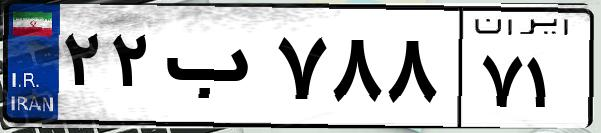1: (525, 38, 570, 115)
2: (57, 26, 110, 100), (110, 28, 158, 98)
7: (270, 28, 330, 110), (475, 38, 525, 113)
8: (385, 28, 445, 110), (330, 28, 385, 110)
ب: (158, 20, 270, 120)
